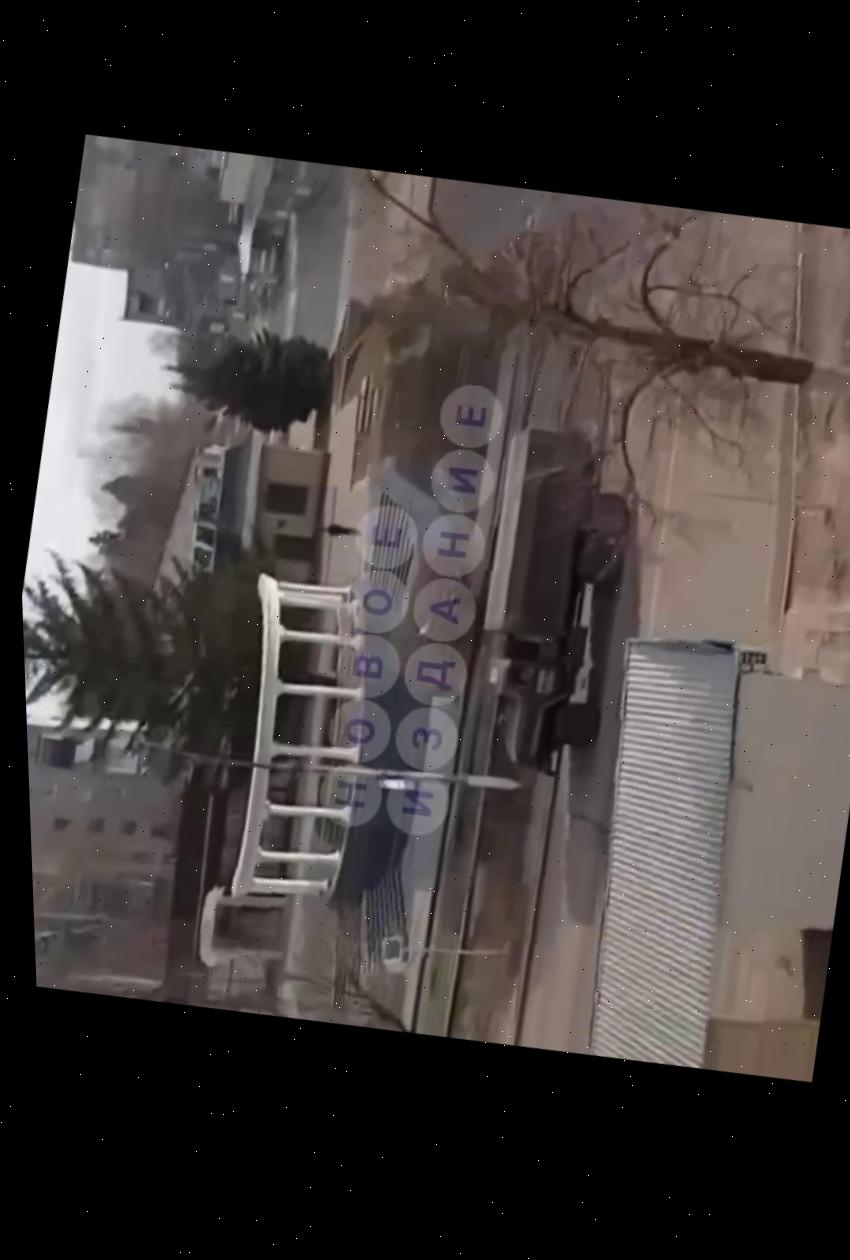truck: (453, 415, 652, 788)
